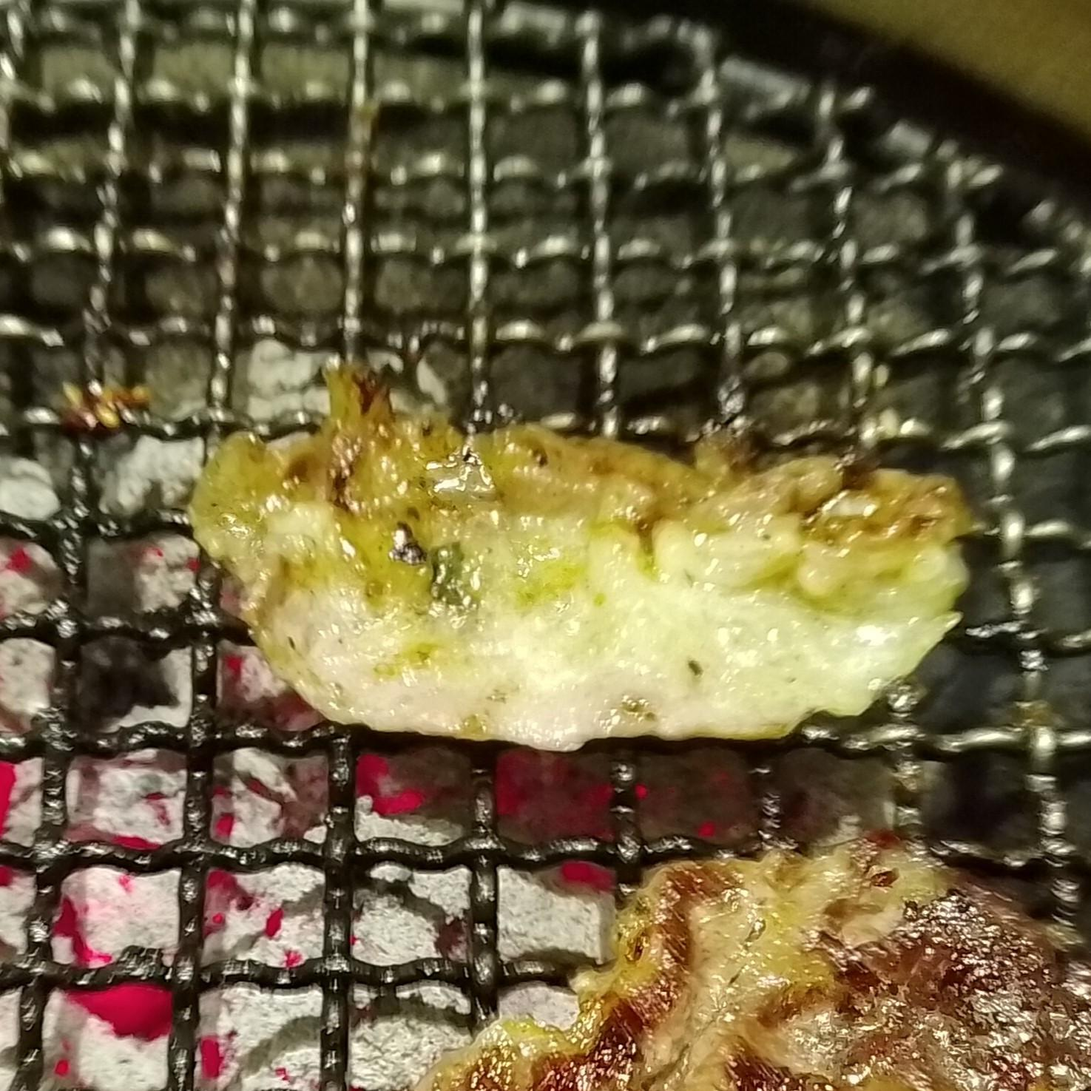Overcooked: (422, 834, 1090, 1090)
Well-Cooked: (188, 368, 973, 756)
